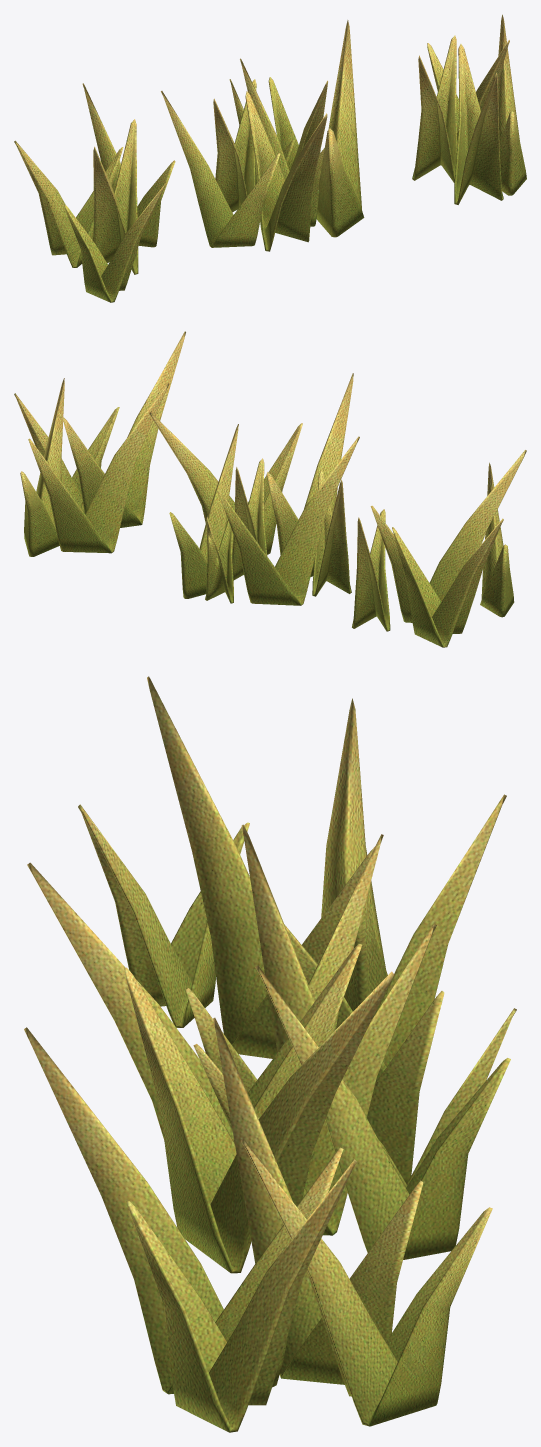
Rendered from grass.fbx.
3 views of the same model, one above another, from view 1: azimuth 30°, elevation 25°; view 2: azimuth 150°, elevation 25°; view 3: azimuth 270°, elevation 25° (orthographic). The views are drawn at different scales.
Parts seen in each view (by area): view 1: grass1, grass2, grass3; view 2: grass1, grass2, grass3; view 3: grass1, grass2, grass3.
Boxes of the visible parts, <box> form: grass1: <box>161,20,364,251</box>; grass2: <box>412,14,526,204</box>; grass3: <box>14,83,175,302</box>; grass1: <box>149,373,359,605</box>; grass2: <box>14,331,185,556</box>; grass3: <box>352,450,526,647</box>; grass1: <box>27,824,516,1273</box>; grass2: <box>24,1017,492,1432</box>; grass3: <box>78,676,506,1082</box>.
Bounding box in the file's own units: 3.74 × 1.2 × 1.64.
